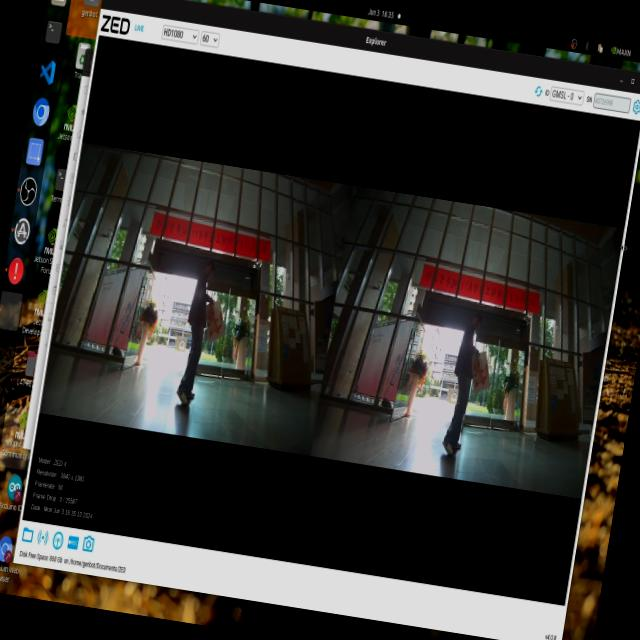red: (465, 347, 498, 398), (195, 302, 227, 354)
